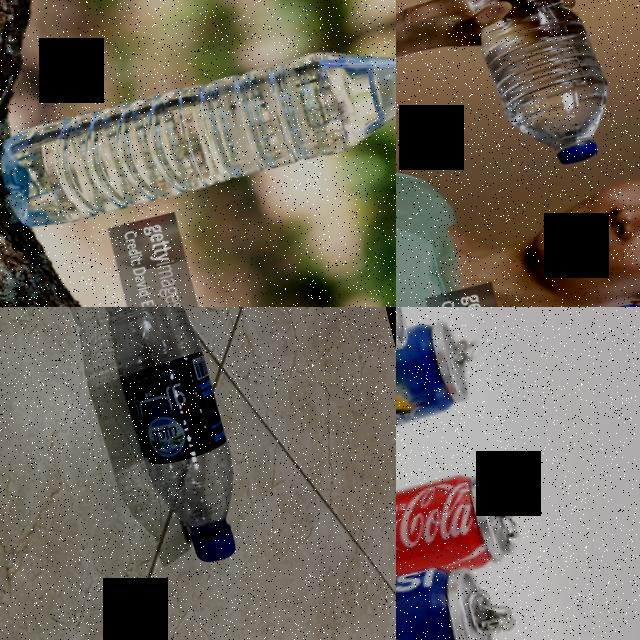bottle: (0, 14, 396, 237), (66, 307, 256, 577), (432, 0, 627, 184)
can: (396, 466, 522, 608), (396, 316, 486, 456)
